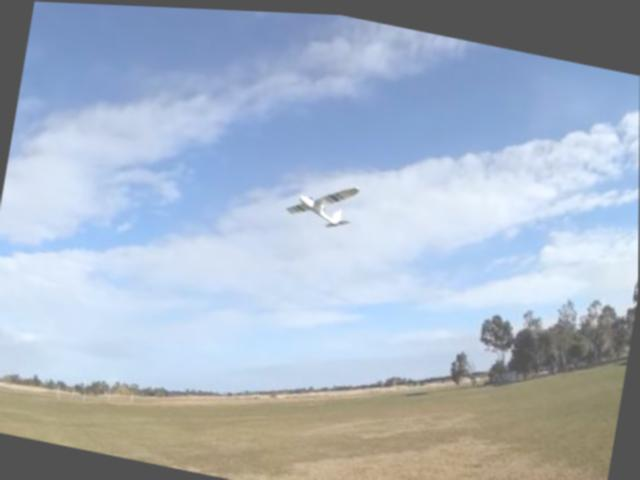uav: (276, 160, 369, 245)
